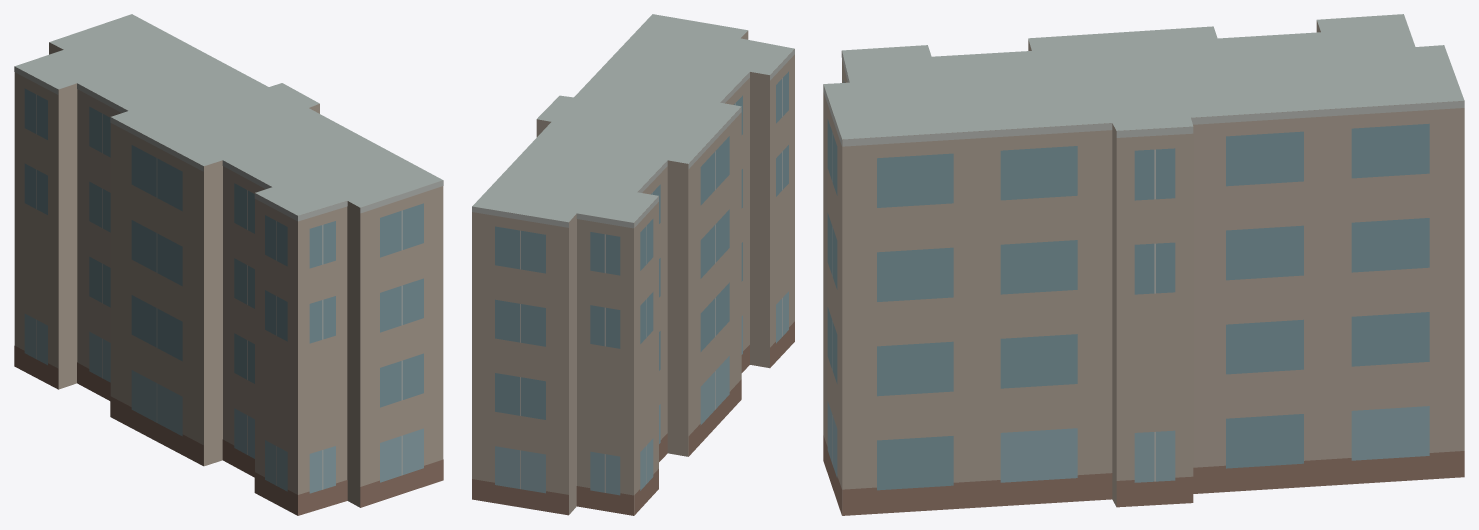
Rendered from survey-upis-32705927.glb.
3 renders of one model, left to right at view 1: azimuth 30°, elevation 25°; view 2: azimuth 150°, elevation 25°; view 3: azimuth 270°, elevation 25°, orthographic. The views are drawn at different scales.
Parts seen in each view (by area): view 1: survey-upis-32705927.tmp; view 2: survey-upis-32705927.tmp; view 3: survey-upis-32705927.tmp.
Part boxes in pixels (bbox=[...]): survey-upis-32705927.tmp: bbox=[14, 14, 443, 515]; survey-upis-32705927.tmp: bbox=[472, 14, 794, 515]; survey-upis-32705927.tmp: bbox=[823, 14, 1464, 515].
Size of the model in its own units: 9.16 by 12.8 by 19.78.
